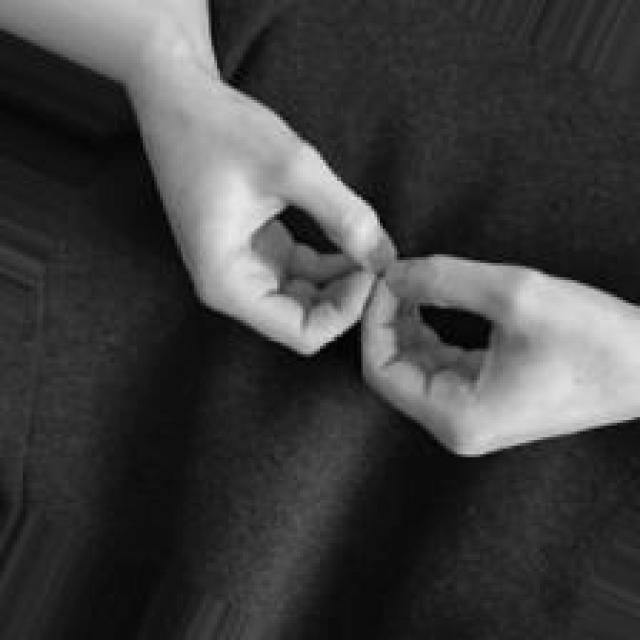B: (146, 81, 626, 456)
